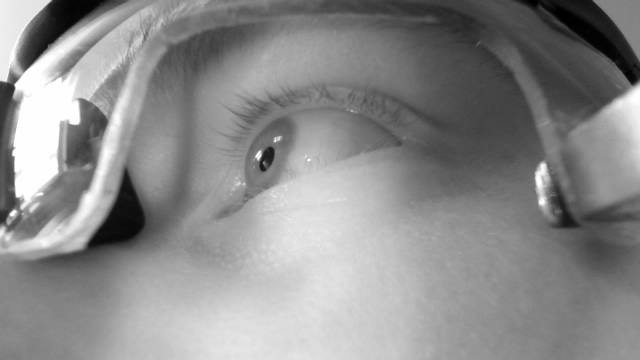pupil: (258, 146, 275, 172)
